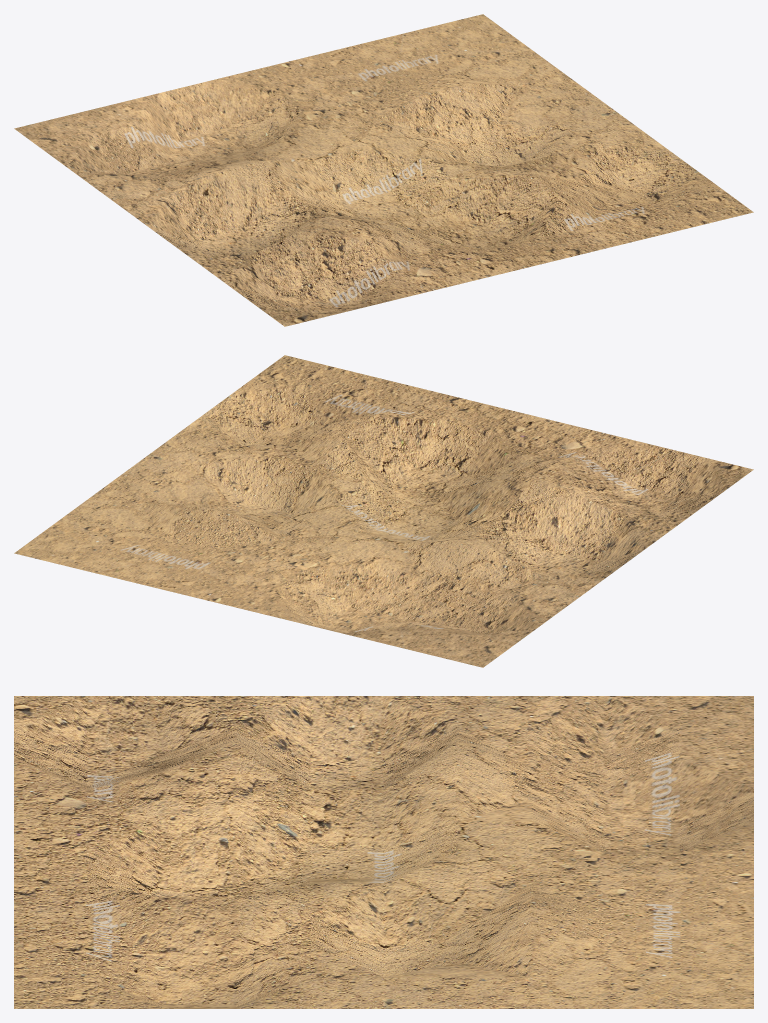
The model's file is ground.fbx.
3 renders of one model, top to bottom at view 1: azimuth 30°, elevation 25°; view 2: azimuth 150°, elevation 25°; view 3: azimuth 270°, elevation 25°, orthographic. The views are drawn at different scales.
Parts seen in each view (by area): view 1: pPlane1; view 2: pPlane1; view 3: pPlane1.
Boxes of the visible parts, box(x1,y1,x2,y2) form: pPlane1: box(14, 14, 753, 326); pPlane1: box(14, 355, 753, 667); pPlane1: box(14, 696, 753, 1008).
Size of the model in its own units: 50 by 3.8 by 50.
